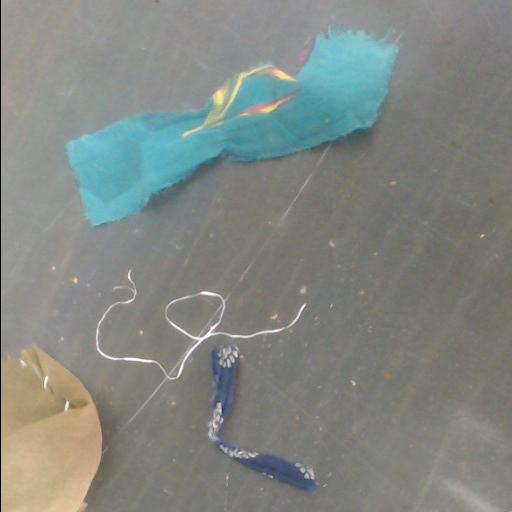cloth: (67, 31, 396, 225), (1, 346, 102, 511), (207, 345, 314, 489)
conveyor belt: (1, 0, 512, 511), (166, 294, 220, 336)
thread: (95, 271, 305, 379)
